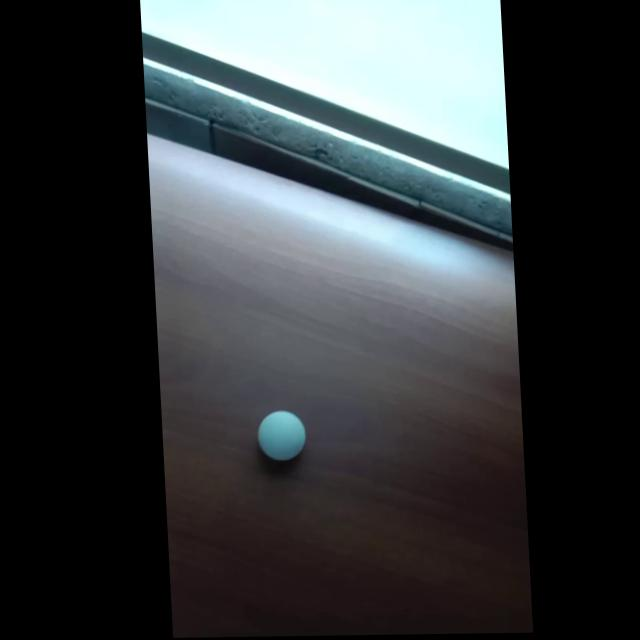white ball: (256, 410, 307, 463)
